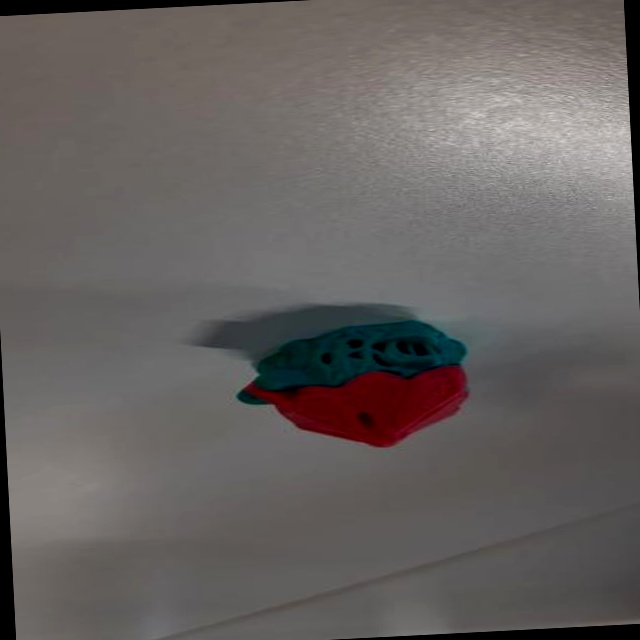House: (231, 313, 479, 458)
